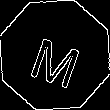M_N: (25, 23, 85, 87)
